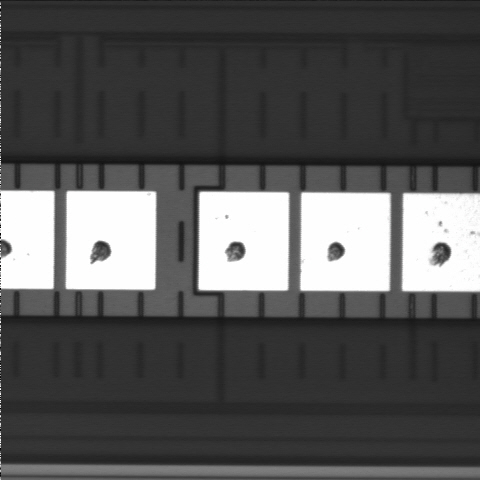pad: (66, 191, 156, 290), (199, 192, 289, 290), (300, 193, 390, 291)
